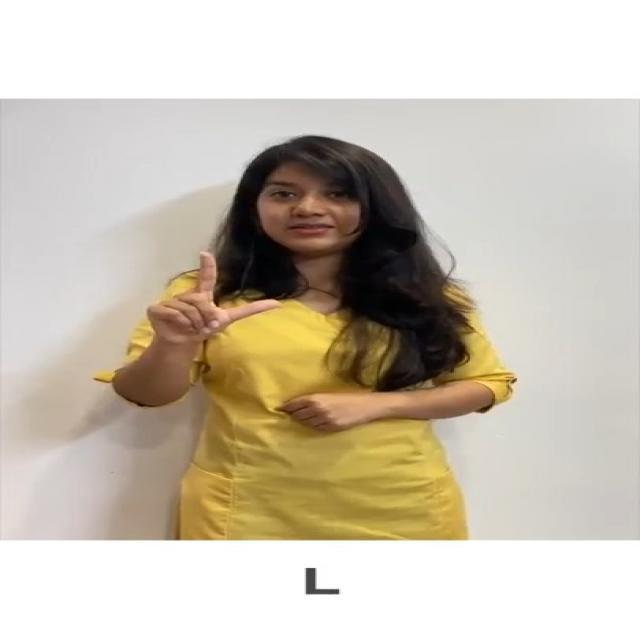L: (140, 245, 300, 365)
